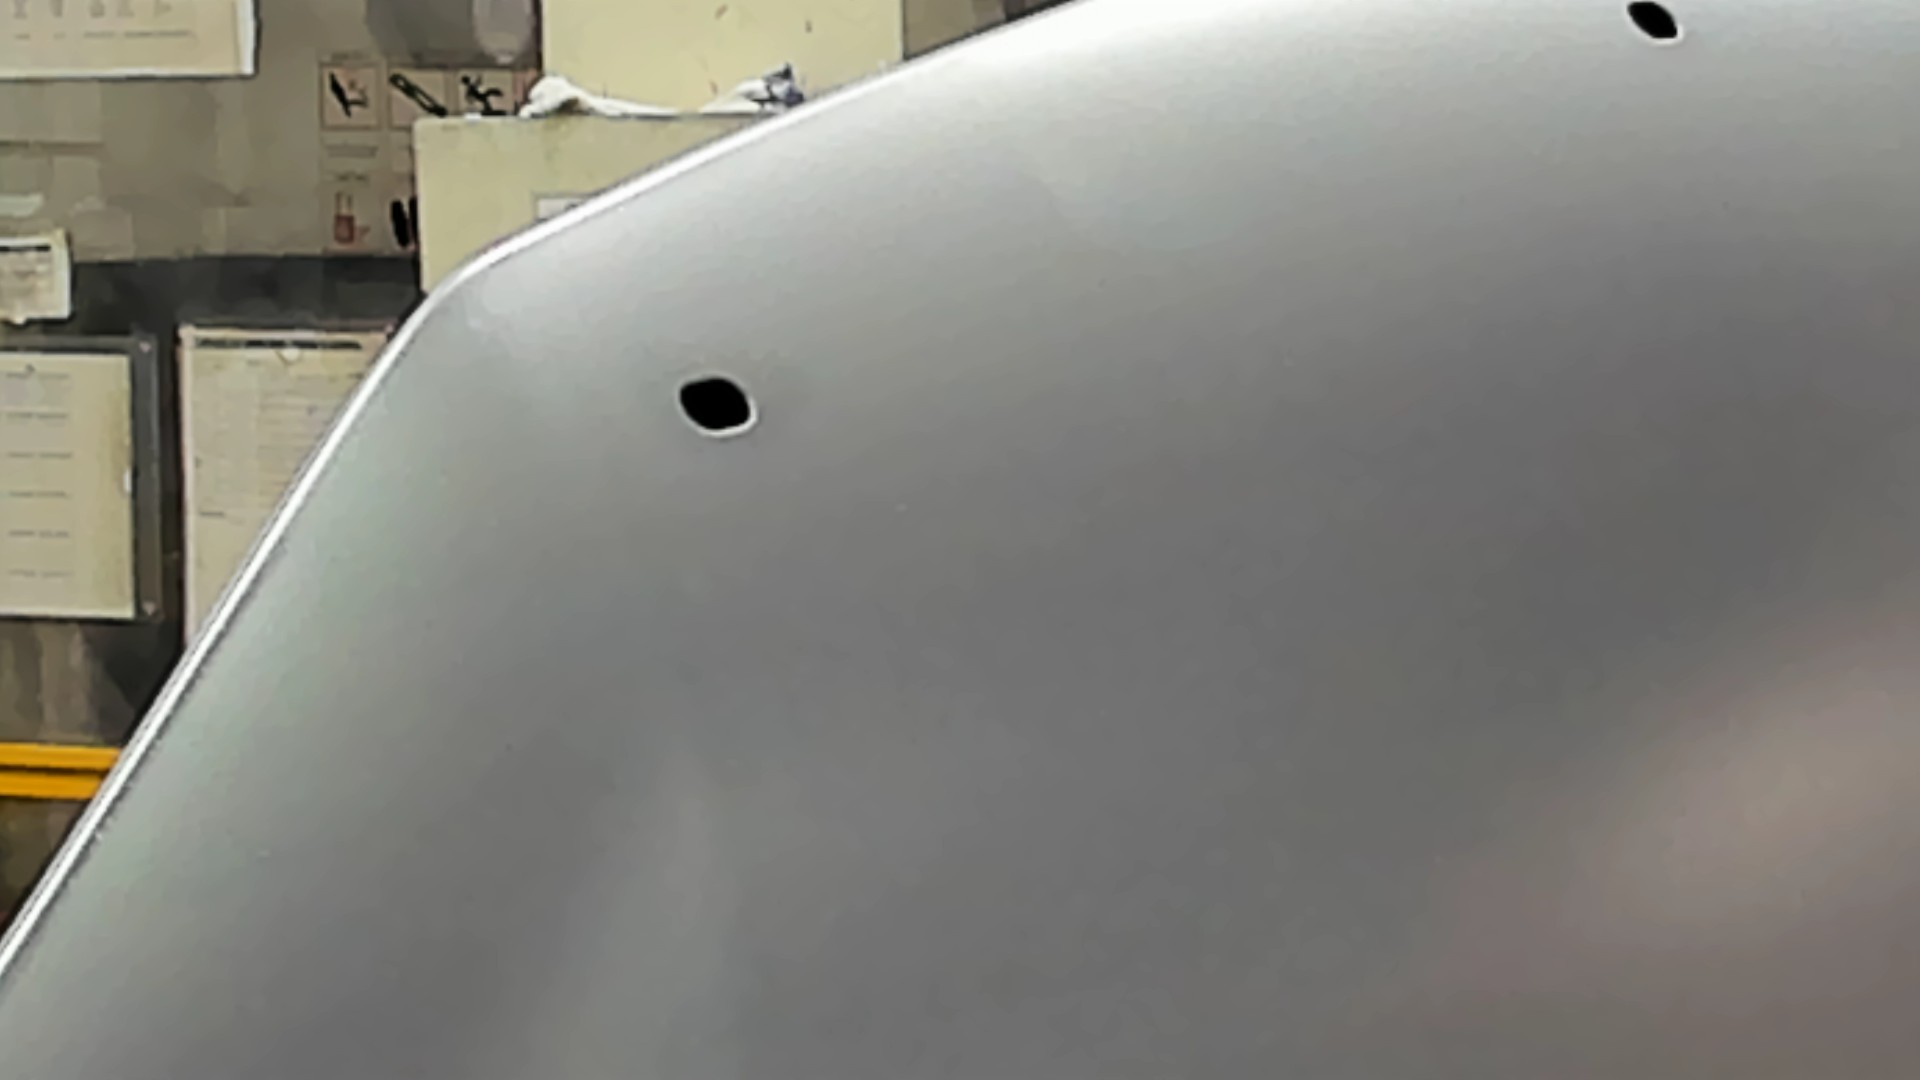amorfo: (671, 369, 764, 456), (1621, 1, 1697, 53)
capo: (866, 128, 1920, 1080)
